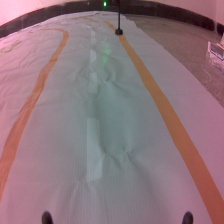green: (101, 1, 125, 37)
